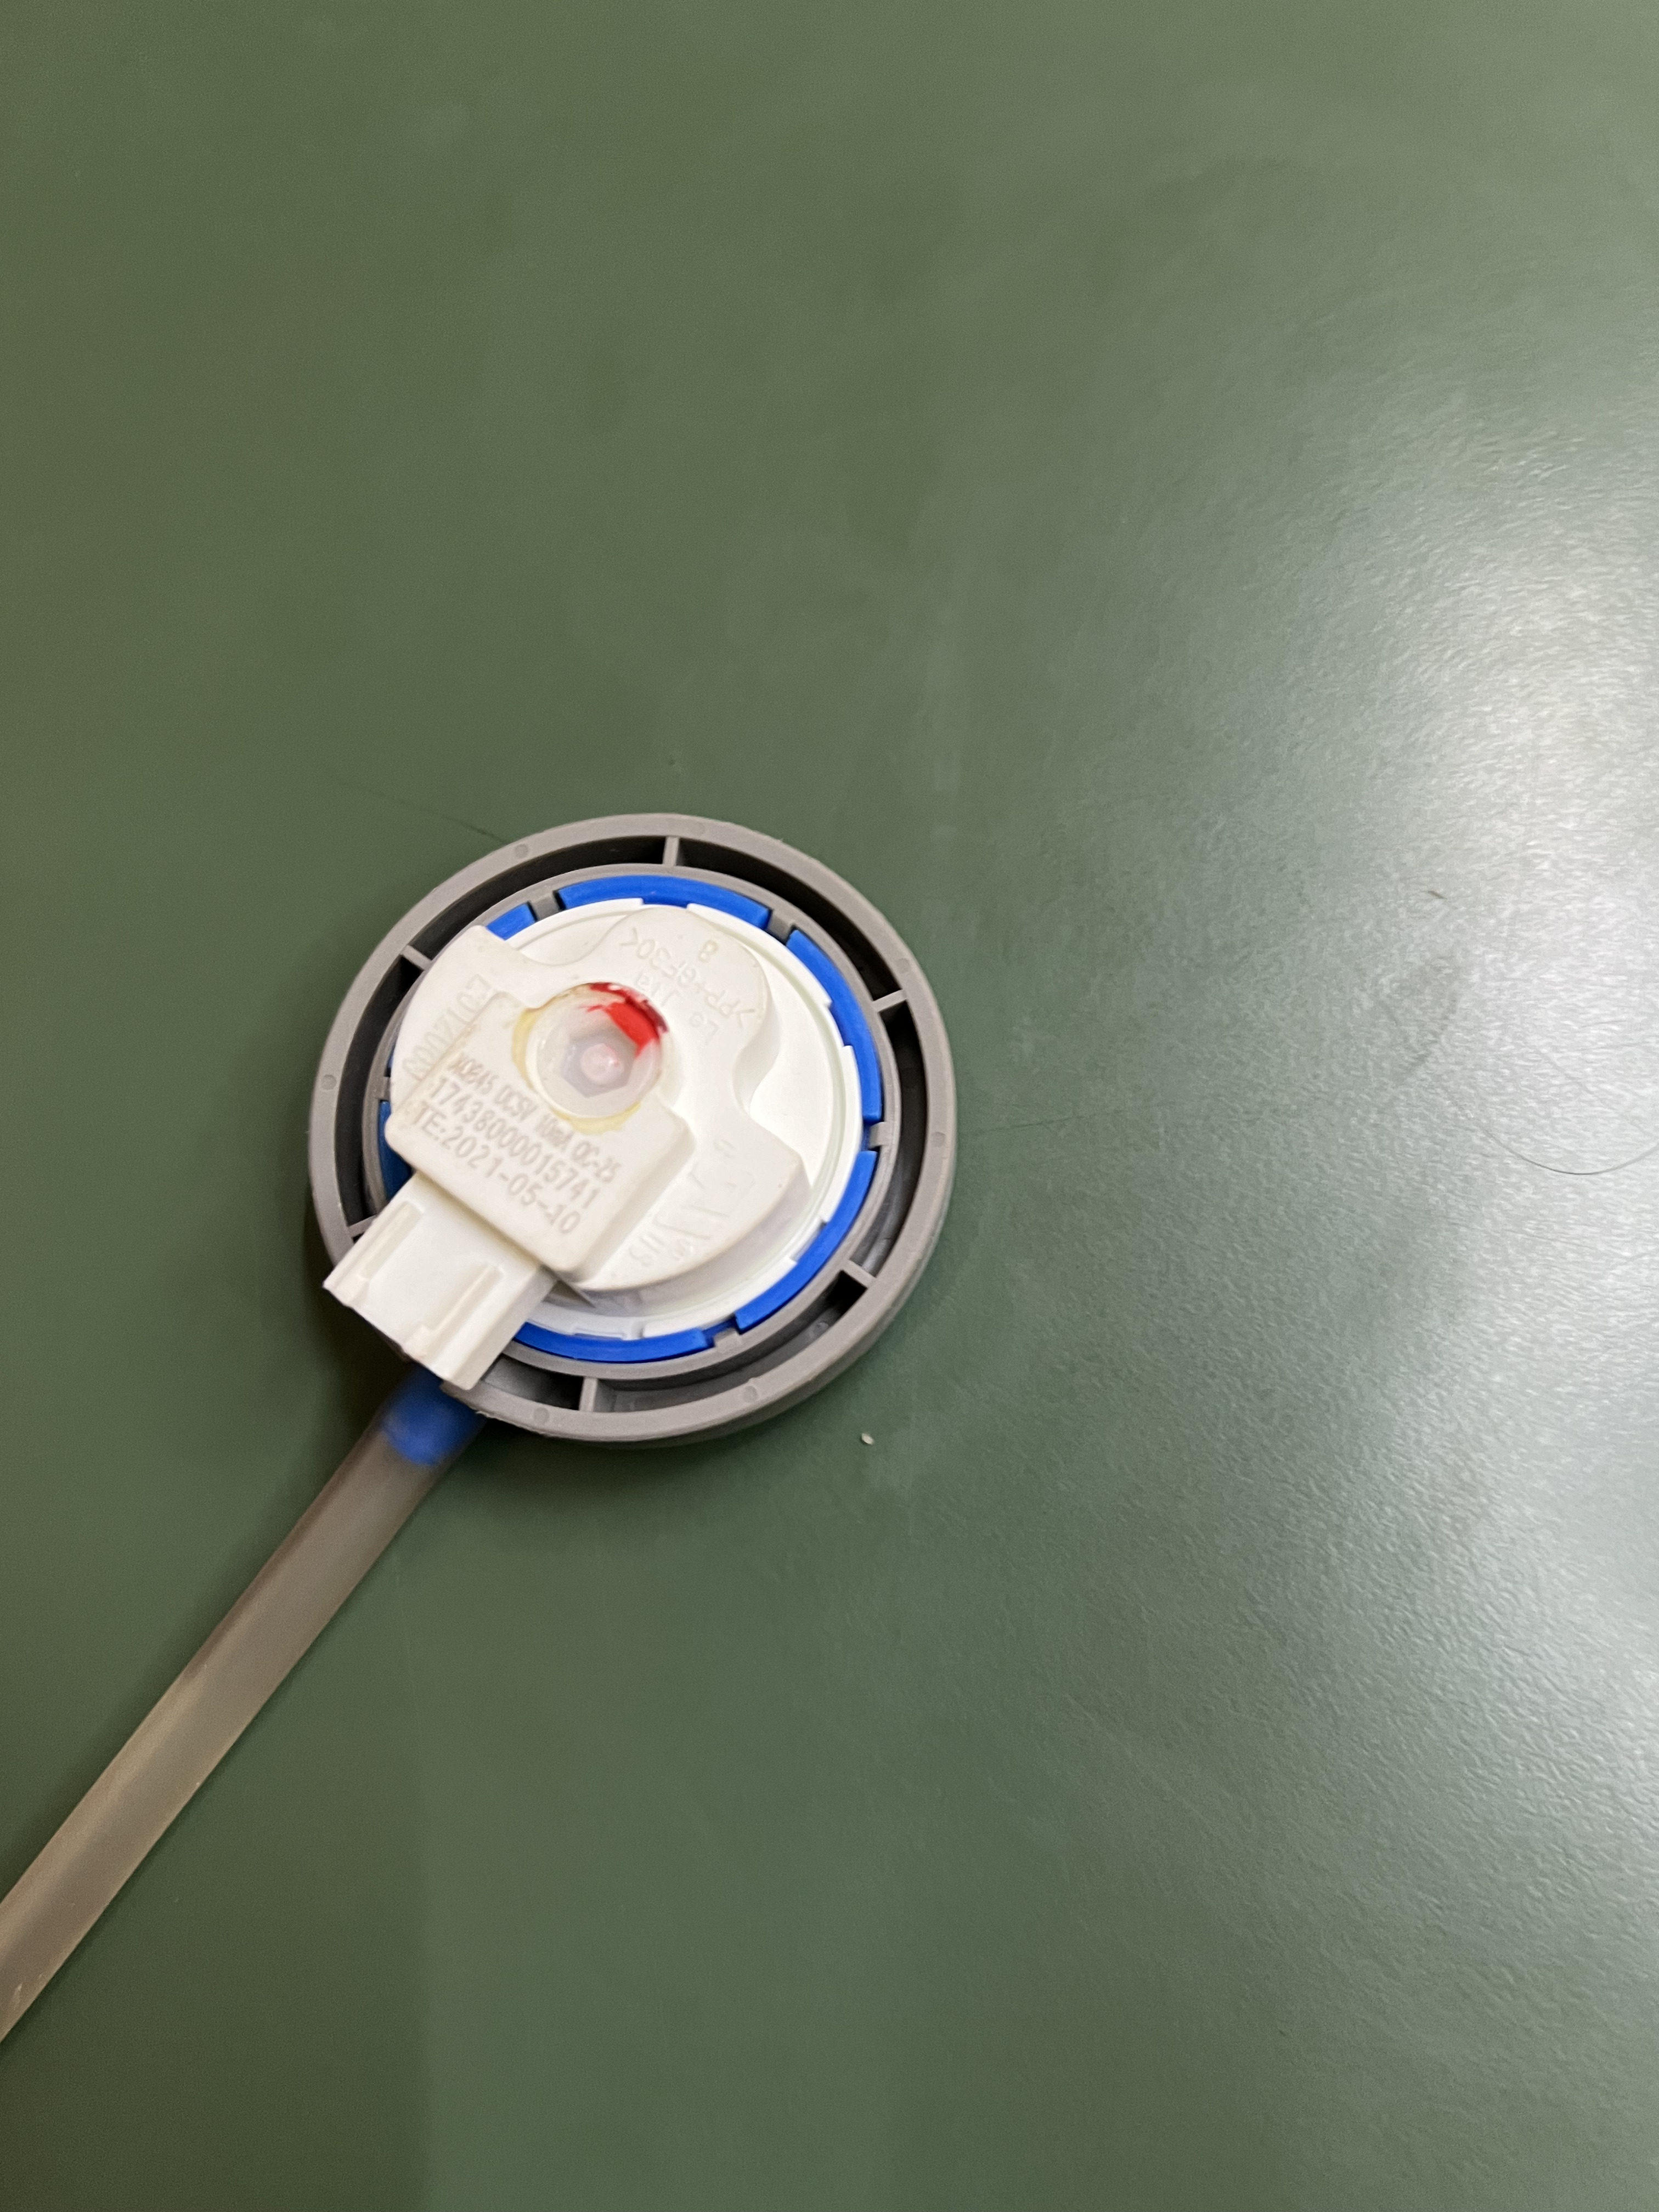pressure_sensor: (204, 805, 997, 1489)
